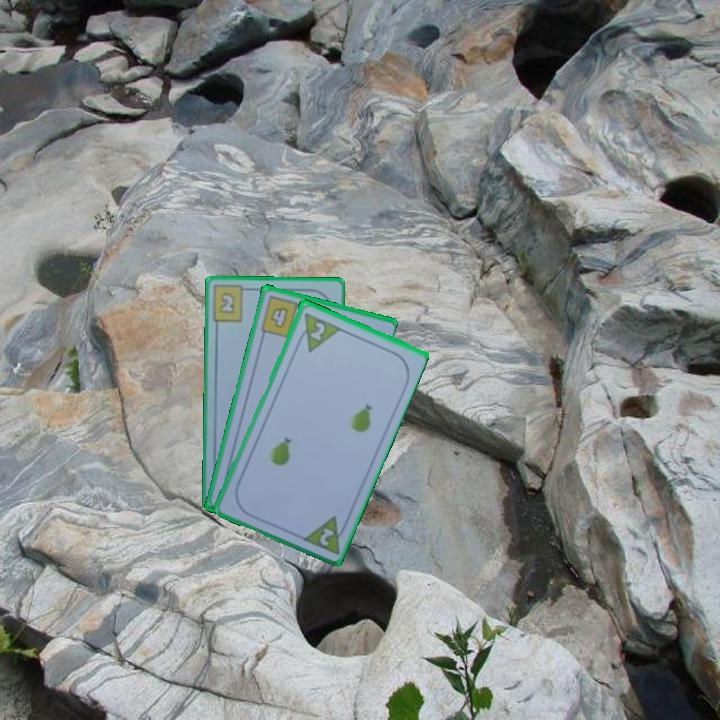2b: (209, 283, 254, 325)
2p: (292, 308, 342, 355), (316, 523, 337, 549)
4b: (257, 293, 307, 341)
